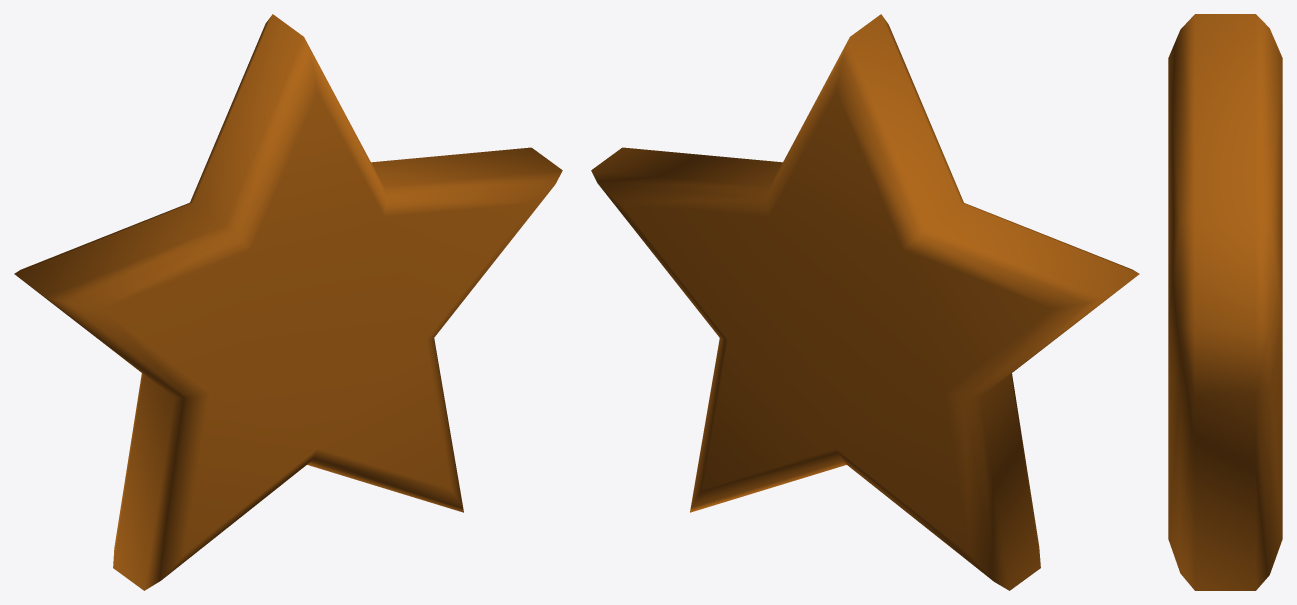
File: object_star_anim.obj
3 renders of one model, left to right at view 1: azimuth 30°, elevation 25°; view 2: azimuth 150°, elevation 25°; view 3: azimuth 270°, elevation 25°, orthographic. The views are drawn at different scales.
Visible parts, largest first — view 1: object_star; view 2: object_star; view 3: object_star.
Part boxes in pixels (box(x1,y1,x2,y2)): object_star: box(14, 14, 562, 590); object_star: box(591, 14, 1139, 590); object_star: box(1168, 14, 1282, 590).
Size of the model in its own units: 1.97 by 1.87 by 0.3859.
